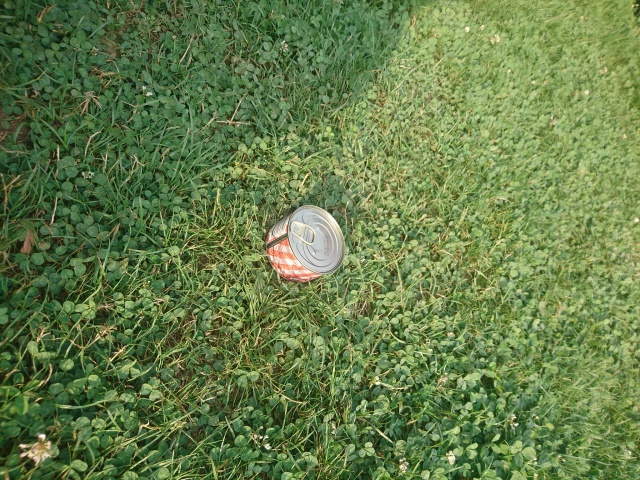Podravka Luncheon Meat 150g: (263, 202, 348, 284)
